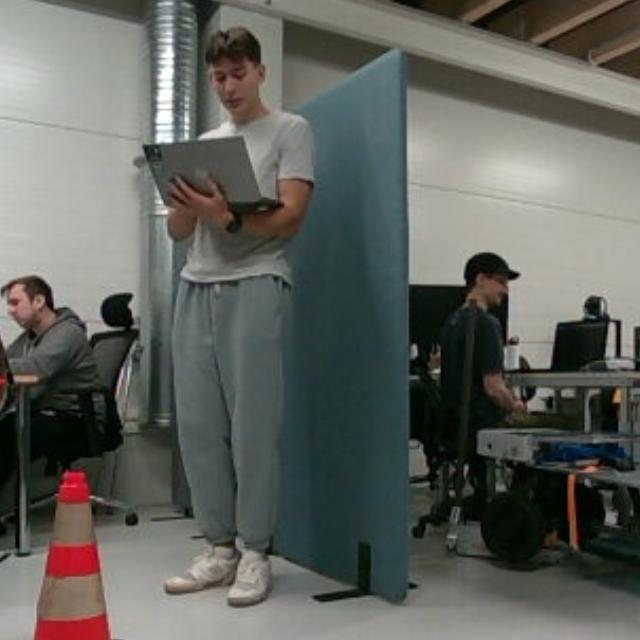Traffic-cone: (2, 468, 141, 640)
